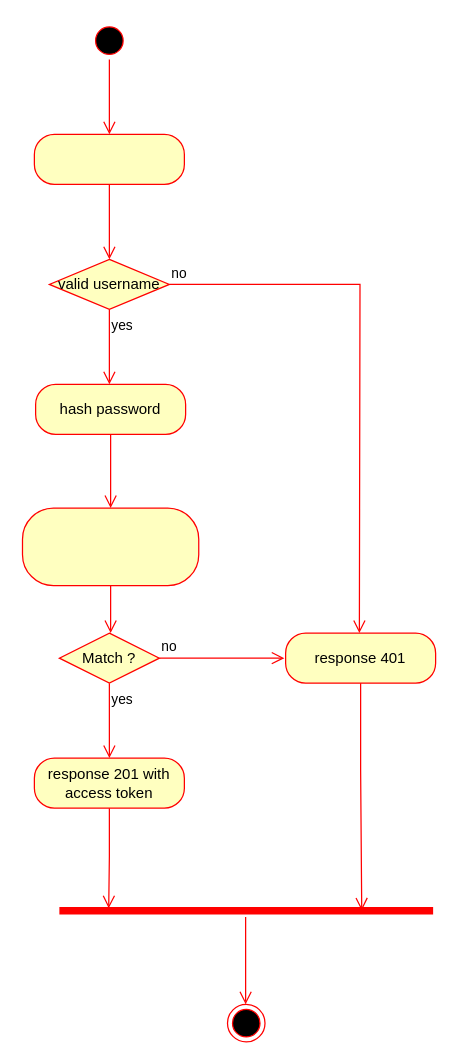
The diagram is 458 pixels wide and 1064 high, and some of its shapes have lost their labels. Here are the shapes that lost their labels. From the top down, the centre of each, then its label:
the point at 108,158: get user credentials from client
the point at 110,546: compare hashed password with stored password in database
